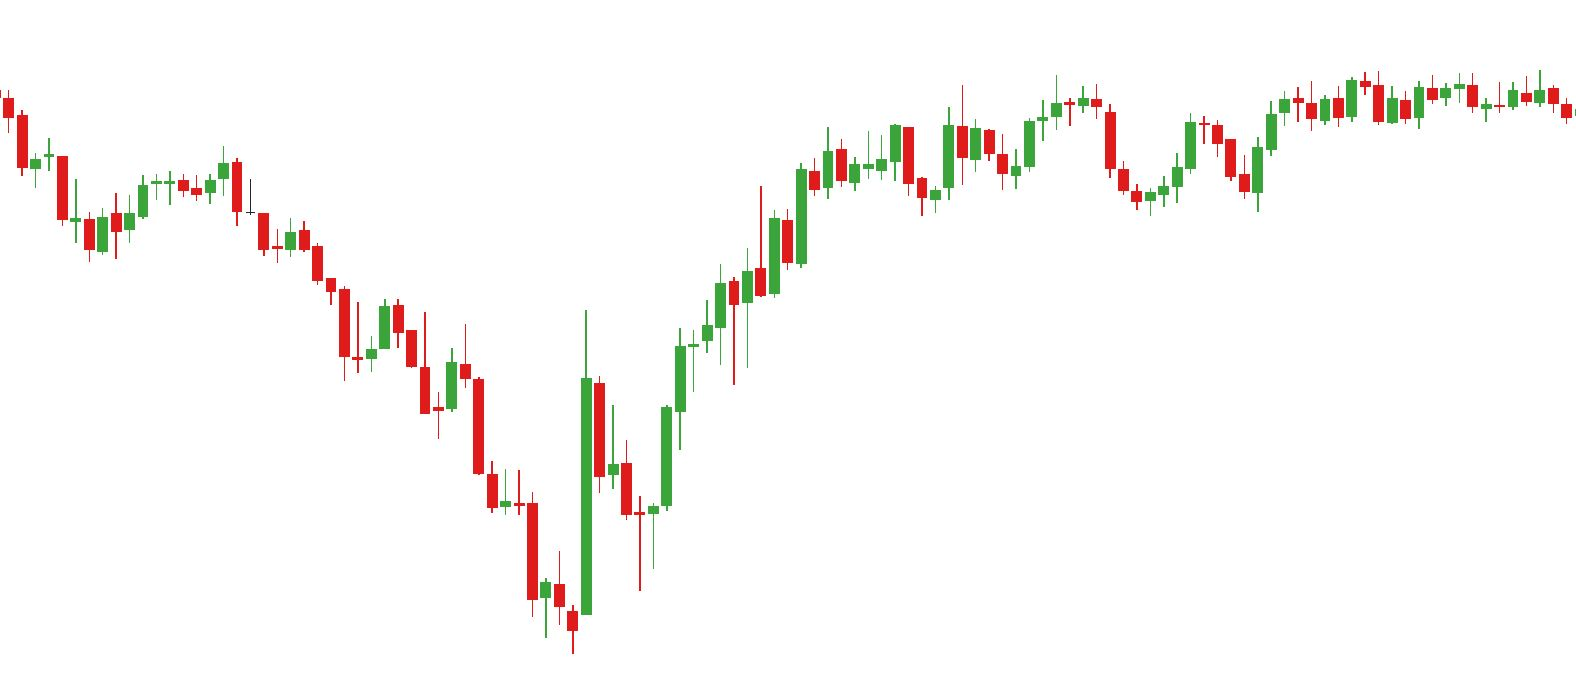buy: (1011, 116, 1170, 217)
